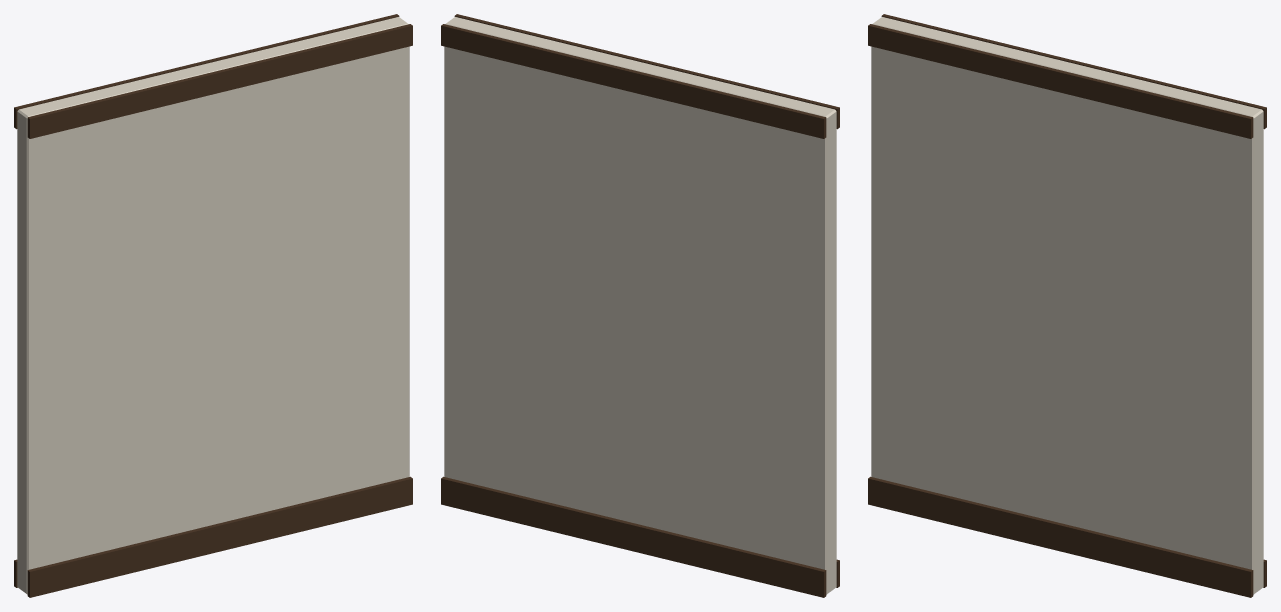
File: mdvl_village_inwall_plain_01.glb
The picture shows the model from 3 angles, left to right: view 1: azimuth 30°, elevation 25°; view 2: azimuth 150°, elevation 25°; view 3: azimuth 330°, elevation 25°; orthographic projection.
Parts seen in each view (by area): view 1: mdvl_village_inwall_plain_01; view 2: mdvl_village_inwall_plain_01; view 3: mdvl_village_inwall_plain_01.
Boxes of the visible parts, x1,y1,x2,y2 form: mdvl_village_inwall_plain_01: [14, 14, 412, 597]; mdvl_village_inwall_plain_01: [441, 14, 839, 597]; mdvl_village_inwall_plain_01: [868, 14, 1266, 597].
Bounding box in the file's own units: 2 × 2.39 × 0.144.
Materials: 1 (1 with a texture image).
